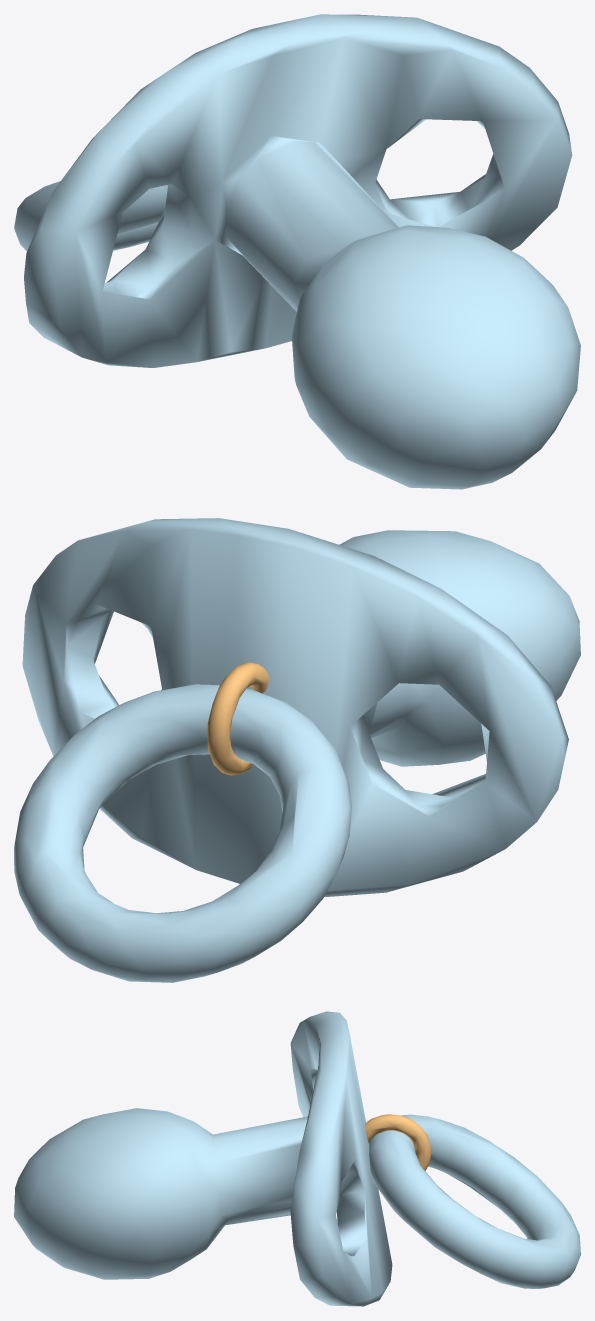
Rendered from pacifier.fbx.
3 views of the same model, one above another, from view 1: azimuth 30°, elevation 25°; view 2: azimuth 150°, elevation 25°; view 3: azimuth 270°, elevation 25° (orthographic). The views are drawn at different scales.
Parts seen in each view (by area): view 1: ZBrush_0_Pacifyer_1D93968F, ZBrush_0_PM3D_Ring3D1_DAD61A85; view 2: ZBrush_0_Pacifyer_1D93968F, ZBrush_0_PM3D_Ring3D1_DAD61A85, ZBrush_0_PM3D_Ring3D2_DAD61A85; view 3: ZBrush_0_Pacifyer_1D93968F, ZBrush_0_PM3D_Ring3D1_DAD61A85, ZBrush_0_PM3D_Ring3D2_DAD61A85.
Part boxes in pixels (bbox=[...]): ZBrush_0_Pacifyer_1D93968F: bbox=[24, 14, 580, 489]; ZBrush_0_PM3D_Ring3D1_DAD61A85: bbox=[14, 181, 167, 251]; ZBrush_0_Pacifyer_1D93968F: bbox=[22, 518, 580, 896]; ZBrush_0_PM3D_Ring3D1_DAD61A85: bbox=[14, 684, 351, 982]; ZBrush_0_PM3D_Ring3D2_DAD61A85: bbox=[207, 662, 268, 775]; ZBrush_0_Pacifyer_1D93968F: bbox=[14, 1011, 392, 1306]; ZBrush_0_PM3D_Ring3D1_DAD61A85: bbox=[369, 1114, 580, 1288]; ZBrush_0_PM3D_Ring3D2_DAD61A85: bbox=[365, 1114, 431, 1170].
Size of the model in its own units: 205 by 120 by 265.
